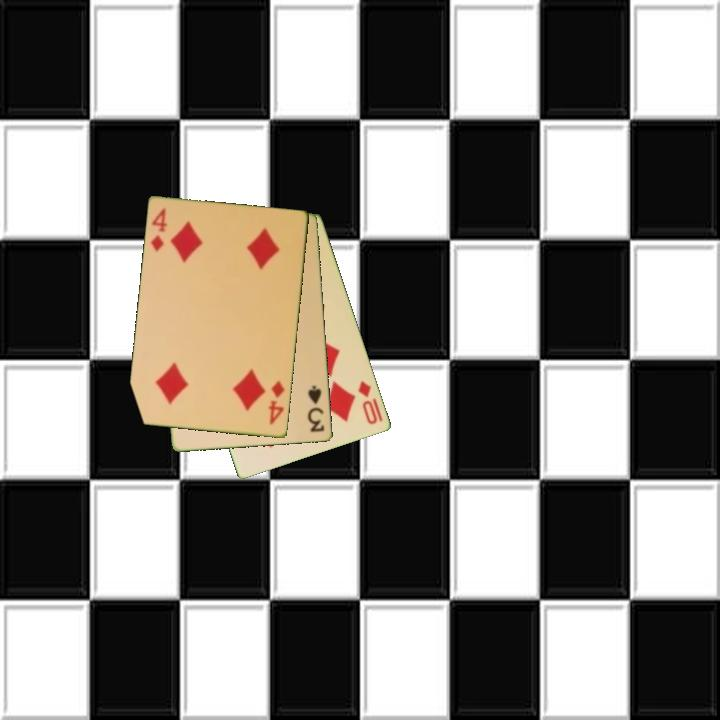10d: (355, 377, 386, 427)
3s: (305, 382, 328, 435)
4d: (147, 205, 170, 255), (265, 378, 287, 428)
